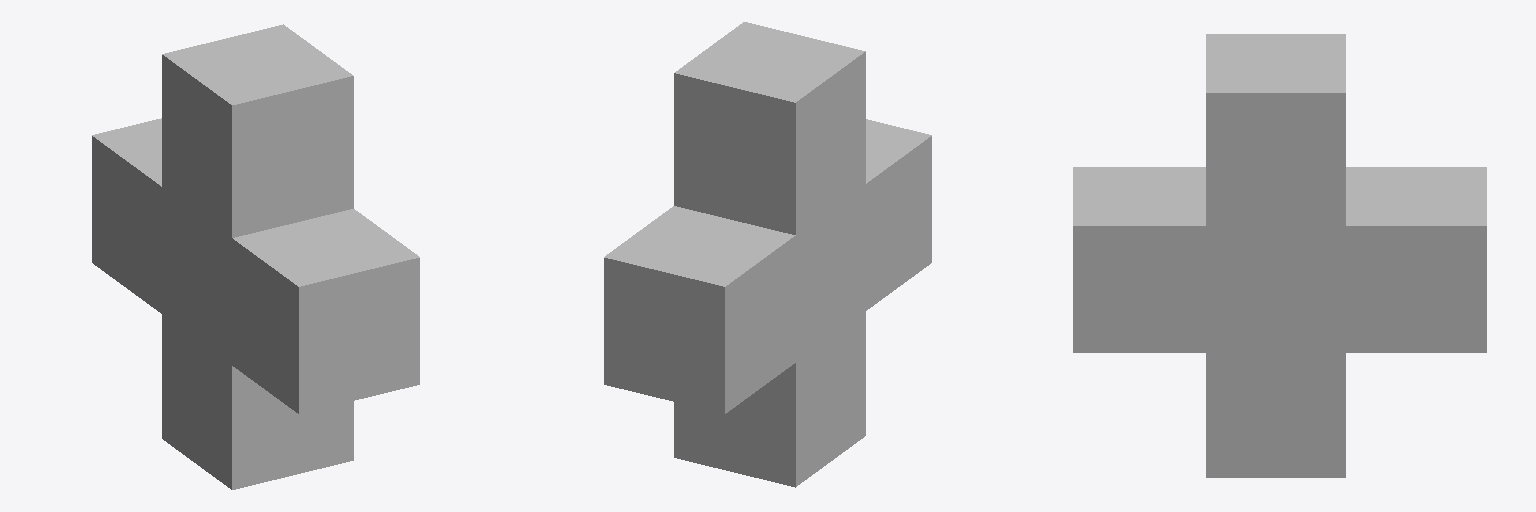
File: healthPack.obj
3 renders of one model, left to right at view 1: azimuth 30°, elevation 25°; view 2: azimuth 150°, elevation 25°; view 3: azimuth 270°, elevation 25°, orthographic.
Parts seen in each view (by area): view 1: pCube1; view 2: pCube1; view 3: pCube1.
Boxes of the visible parts, x1,y1,x2,y2 form: pCube1: [92, 24, 419, 489]; pCube1: [604, 22, 931, 487]; pCube1: [1073, 34, 1486, 477].
Size of the model in its own units: 0.5761 by 1.74 by 1.7.